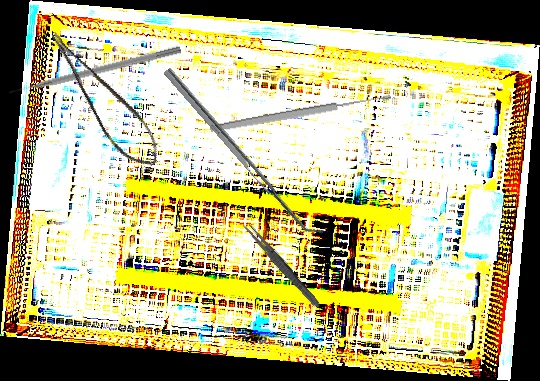Dressing Forceps: (239, 219, 324, 311)
Micro Scissor: (46, 16, 168, 179)
Pusher: (7, 43, 182, 97)
Spatula Surgical: (163, 62, 324, 243)
Surgical Spoon: (209, 92, 392, 134)
